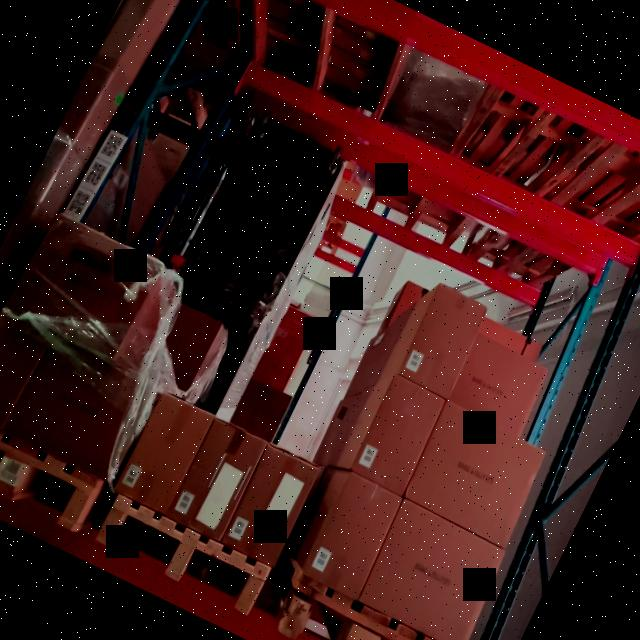box: (3, 334, 158, 484), (5, 218, 159, 358), (404, 402, 548, 550), (360, 502, 506, 640), (302, 474, 402, 600), (220, 444, 320, 566), (116, 392, 214, 516), (170, 418, 267, 538), (353, 376, 446, 499), (399, 285, 486, 398), (0, 308, 53, 428)
